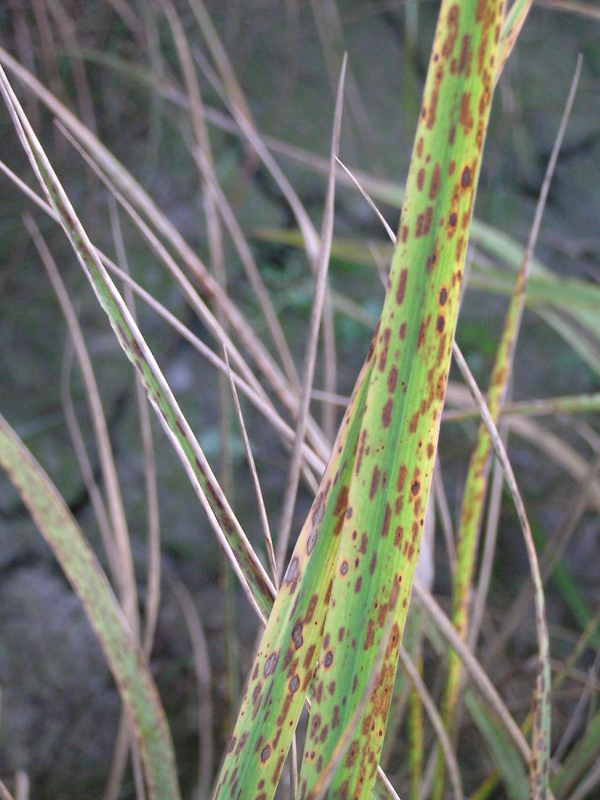Bercak Coklat: (392, 263, 411, 309), (426, 156, 442, 207), (299, 591, 320, 627), (379, 395, 397, 433), (365, 463, 382, 501), (384, 362, 401, 398), (411, 164, 429, 197), (432, 284, 454, 308), (443, 119, 458, 151), (356, 529, 372, 559), (321, 648, 340, 672), (406, 475, 424, 500), (412, 135, 428, 163), (329, 621, 348, 644), (433, 313, 449, 337), (423, 437, 439, 461), (256, 741, 272, 765), (323, 677, 340, 698), (287, 673, 303, 694)
